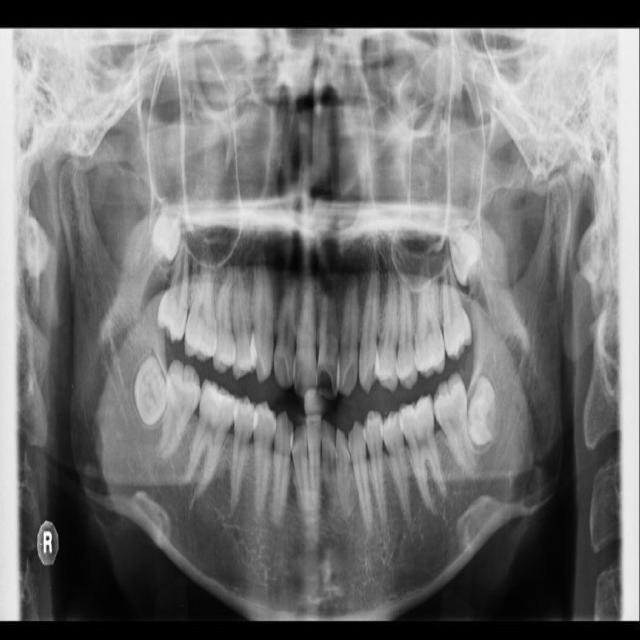3M ESPE Implant: (148, 196, 185, 265)
73: (593, 568, 602, 581)
BioHorizons Implant: (431, 252, 477, 362)
BioLife Implant: (444, 215, 489, 290)
Biomet 3i Implant: (467, 377, 504, 449)
Blue Sky Bio Implant: (428, 370, 480, 481)
Caries: (151, 238, 207, 345)
Implant: (152, 358, 206, 469)
Keystone Dental Implant: (133, 357, 169, 427)
